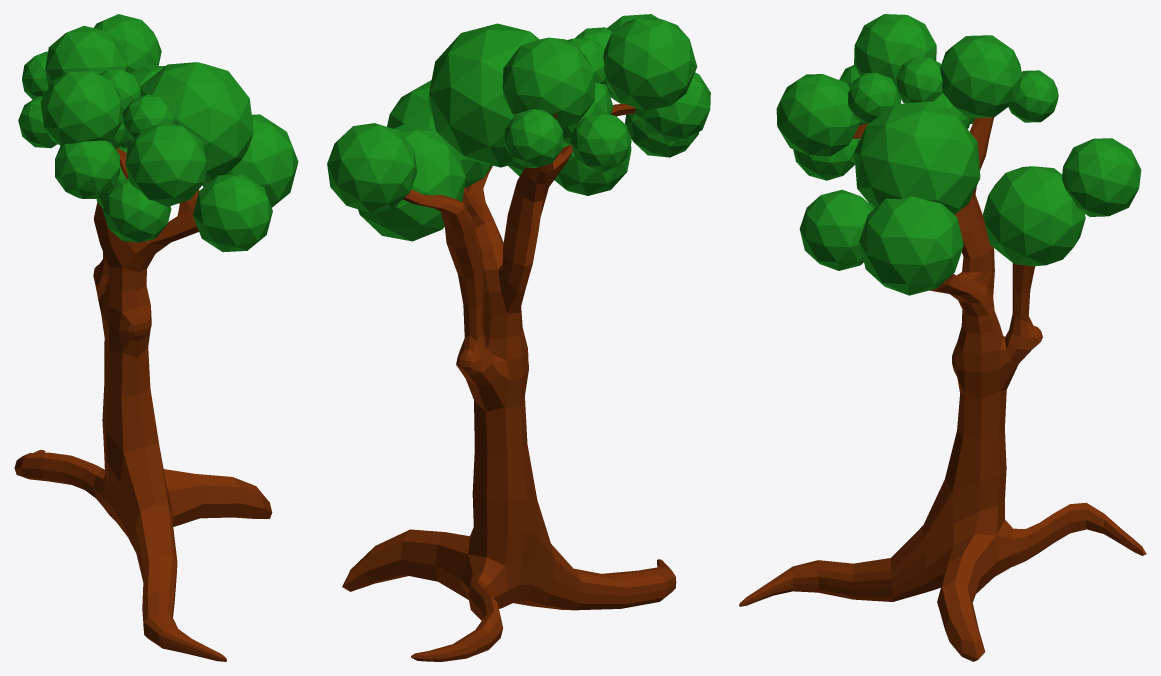
Rendered from Tree.fbx.
The picture shows the model from 3 angles, left to right: view 1: azimuth 30°, elevation 25°; view 2: azimuth 150°, elevation 25°; view 3: azimuth 270°, elevation 25°; orthographic projection. The views are drawn at different scales.
Parts seen in each view (by area): view 1: Icosphere.001; view 2: Icosphere.001; view 3: Icosphere.001.
Part boxes in pixels (bbox=[...]): Icosphere.001: bbox=[14, 14, 298, 661]; Icosphere.001: bbox=[327, 14, 710, 661]; Icosphere.001: bbox=[739, 14, 1146, 661].
Bounding box in the file's own units: 618 × 1225 × 811.
